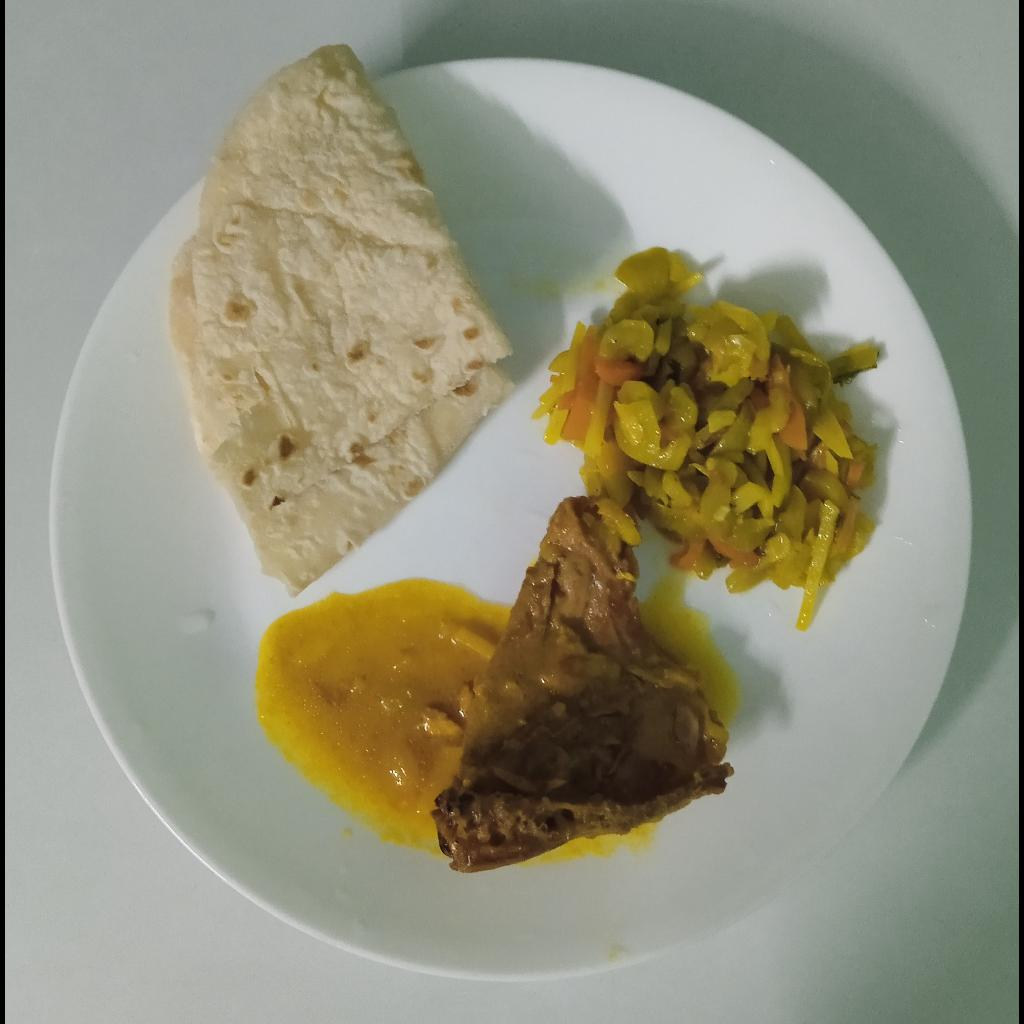chicken: (432, 493, 739, 874)
ruti: (155, 41, 528, 602)
vegetable: (531, 248, 886, 626)
